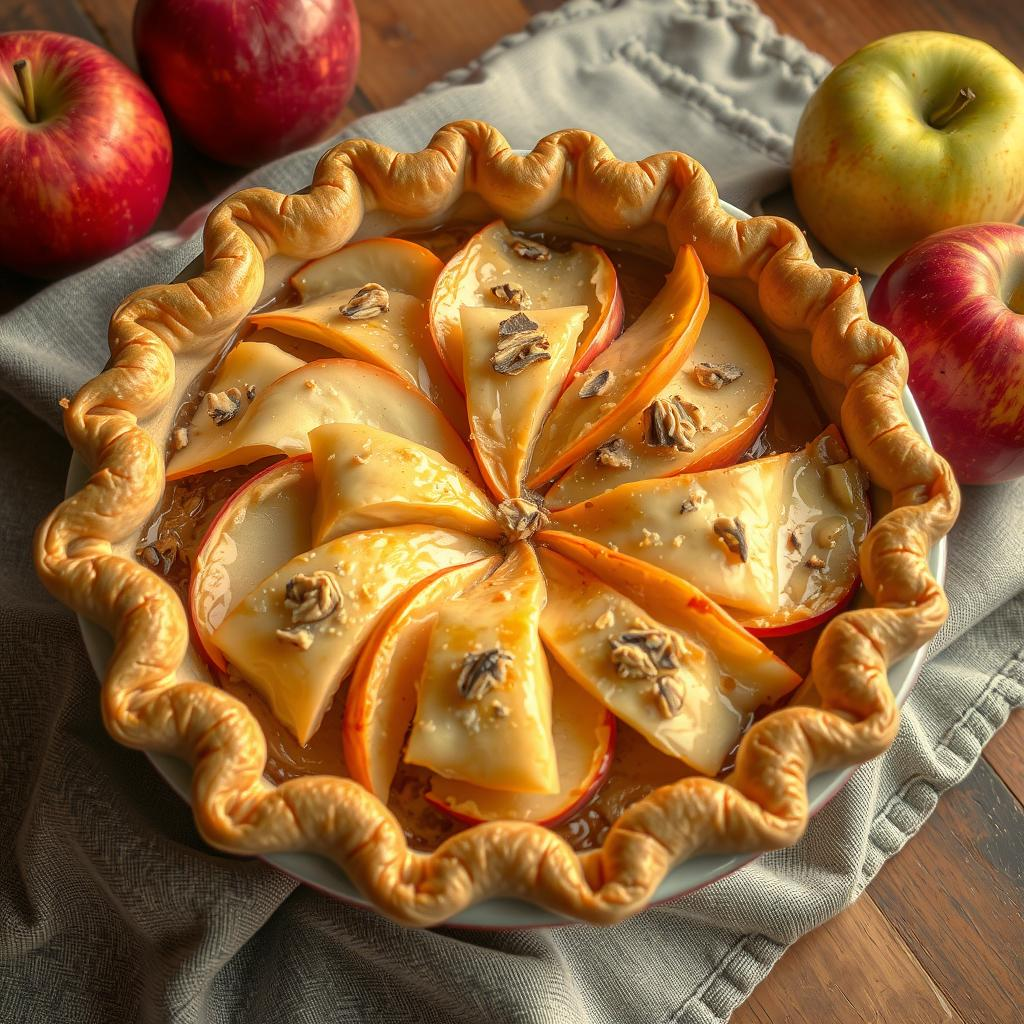pie: (26, 110, 970, 937)
